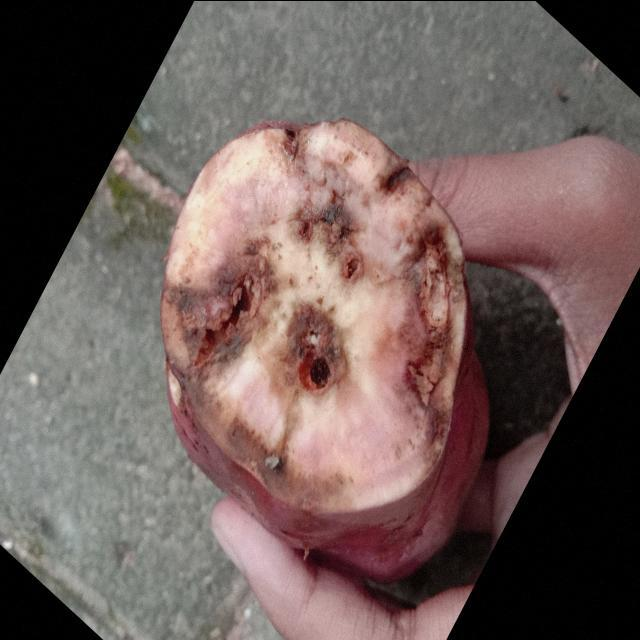Sick Sweet Potato_Tuber Rot: (161, 118, 466, 512)
